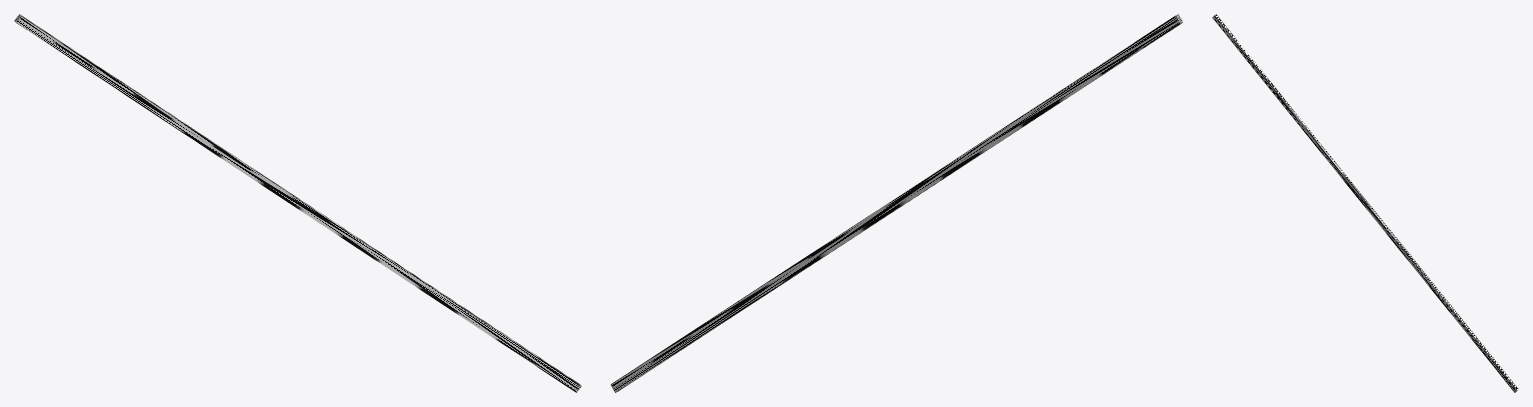
3 views of the same model, side by side, from view 1: azimuth 30°, elevation 25°; view 2: azimuth 150°, elevation 25°; view 3: azimuth 330°, elevation 25° (orthographic). The views are drawn at different scales.
Visible parts, largest first — view 1: Cube; view 2: Cube; view 3: Cube.
Part boxes in pixels (x1,y1,x2,y2): Cube: [14, 14, 581, 392]; Cube: [610, 14, 1183, 392]; Cube: [1212, 14, 1518, 392].
Bounding box in the file's own units: 40.37 × 34.85 × 3.71.
1 material, 1 textured.
